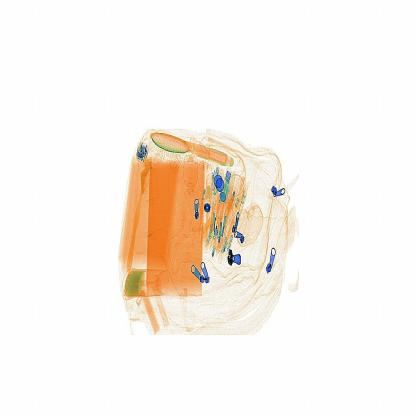wrench: (223, 242, 251, 282)
